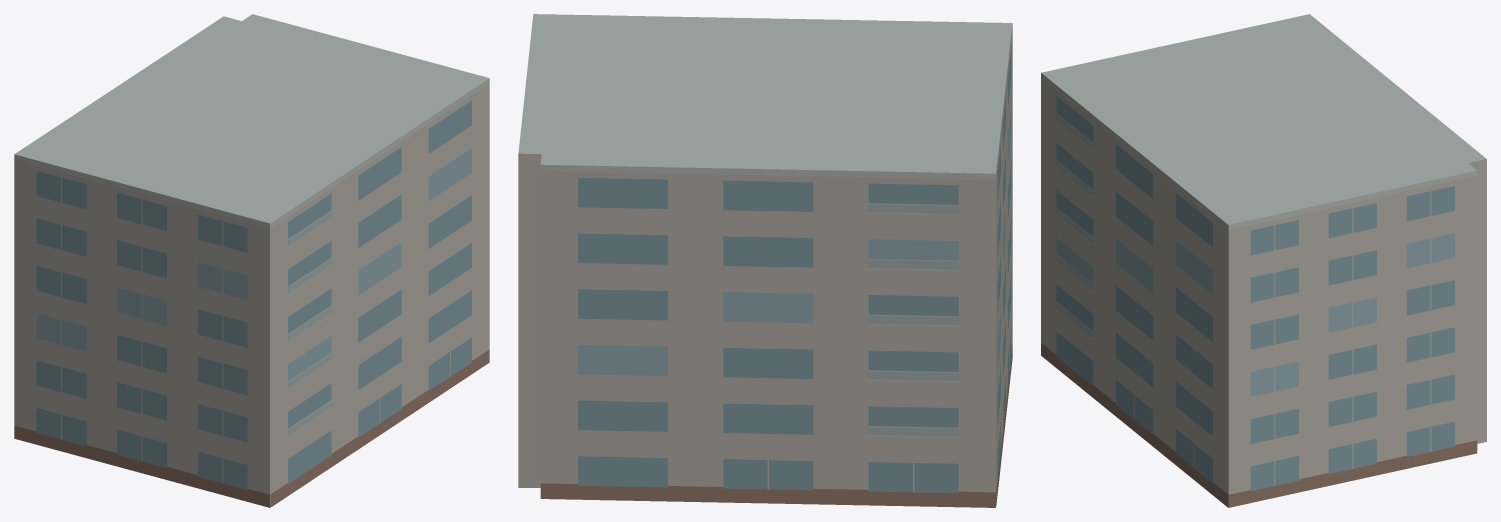
Rendered from survey-upis-32889396.glb.
3 renders of one model, left to right at view 1: azimuth 30°, elevation 25°; view 2: azimuth 150°, elevation 25°; view 3: azimuth 270°, elevation 25°, orthographic. The views are drawn at different scales.
Parts seen in each view (by area): view 1: survey-upis-32889396.tmp; view 2: survey-upis-32889396.tmp; view 3: survey-upis-32889396.tmp.
Boxes of the visible parts, x1,y1,x2,y2 form: survey-upis-32889396.tmp: (14,14,489,507); survey-upis-32889396.tmp: (518,14,1012,507); survey-upis-32889396.tmp: (1041,14,1486,507).
Bounding box in the file's own units: 21.12 × 13.2 × 18.86.
